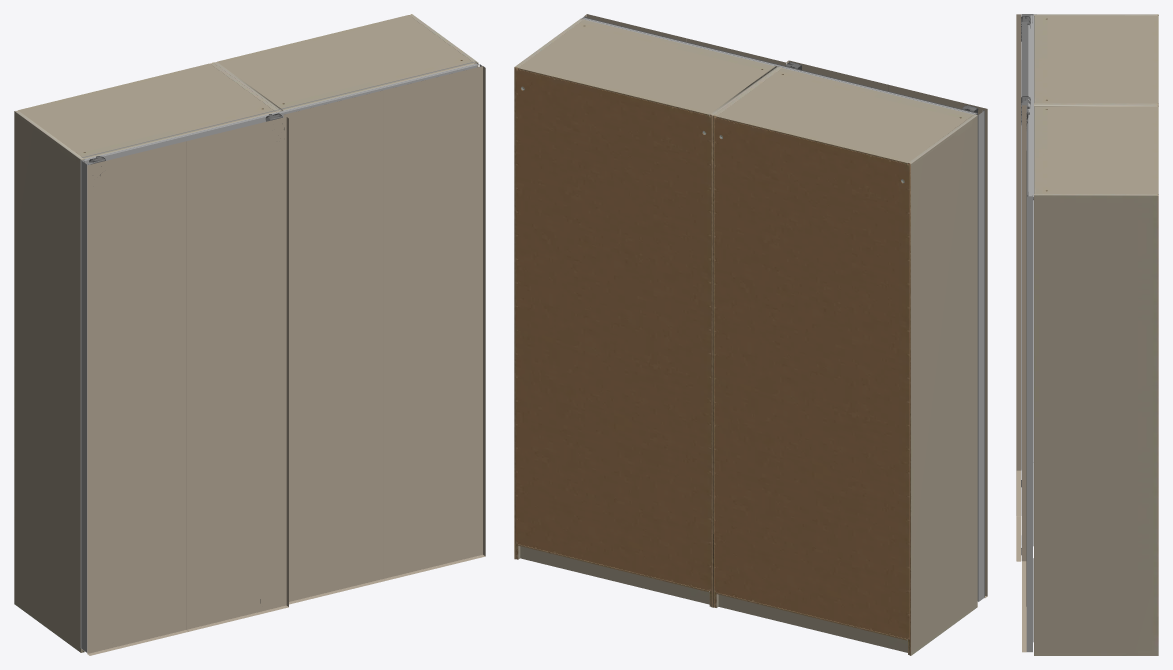
File: pax_hasvik_kombinacja_szafy_89568193.glb
3 views of the same model, side by side, from view 1: azimuth 30°, elevation 25°; view 2: azimuth 150°, elevation 25°; view 3: azimuth 270°, elevation 25° (orthographic). The views are drawn at different scales.
Parts seen in each view (by area): view 1: pax_hasvik_kombinacja_szafy_89568193; view 2: pax_hasvik_kombinacja_szafy_89568193; view 3: pax_hasvik_kombinacja_szafy_89568193.
Boxes of the visible parts, left/top/right/bottom form: pax_hasvik_kombinacja_szafy_89568193: left=14, top=14, right=485, bottom=655; pax_hasvik_kombinacja_szafy_89568193: left=514, top=14, right=987, bottom=655; pax_hasvik_kombinacja_szafy_89568193: left=1016, top=14, right=1158, bottom=655.
Size of the model in its own units: 2 by 2.37 by 0.6609.
Materials: 4 (1 with a texture image).
